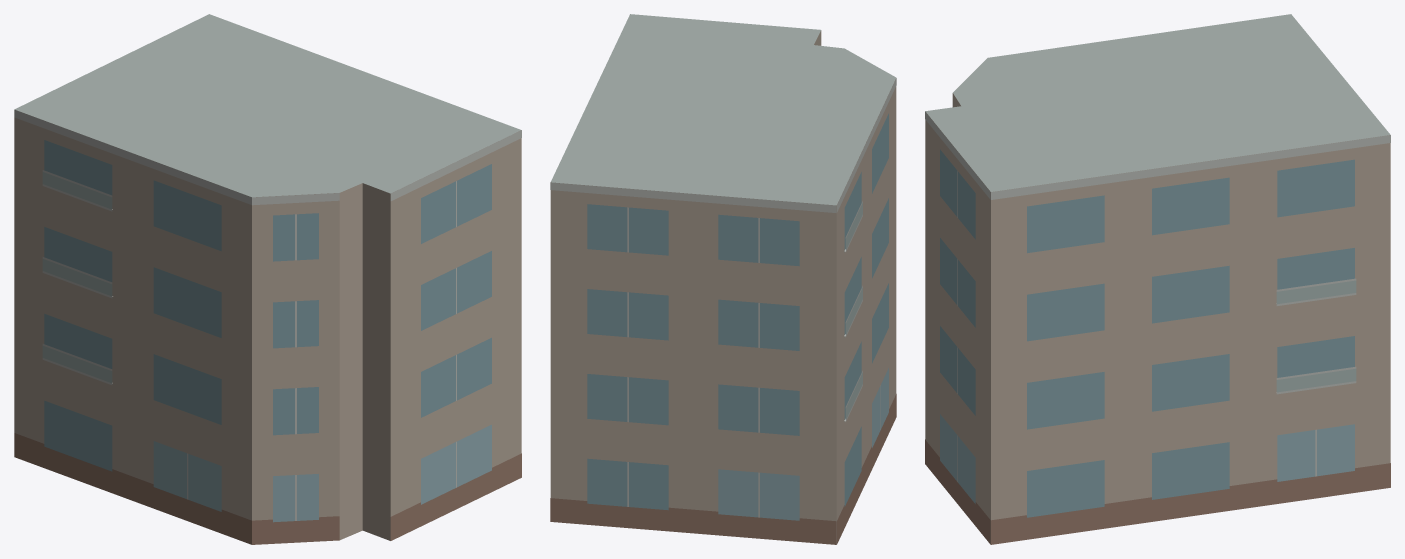
The model's file is survey-upis-32699245.glb.
3 renders of one model, left to right at view 1: azimuth 30°, elevation 25°; view 2: azimuth 150°, elevation 25°; view 3: azimuth 270°, elevation 25°, orthographic. The views are drawn at different scales.
Parts seen in each view (by area): view 1: survey-upis-32699245.tmp; view 2: survey-upis-32699245.tmp; view 3: survey-upis-32699245.tmp.
Boxes of the visible parts, left/top/right/bottom form: survey-upis-32699245.tmp: left=14, top=14, right=521, bottom=544; survey-upis-32699245.tmp: left=550, top=14, right=896, bottom=544; survey-upis-32699245.tmp: left=925, top=14, right=1390, bottom=544.
Size of the model in its own units: 11.59 by 10.7 by 12.81.
